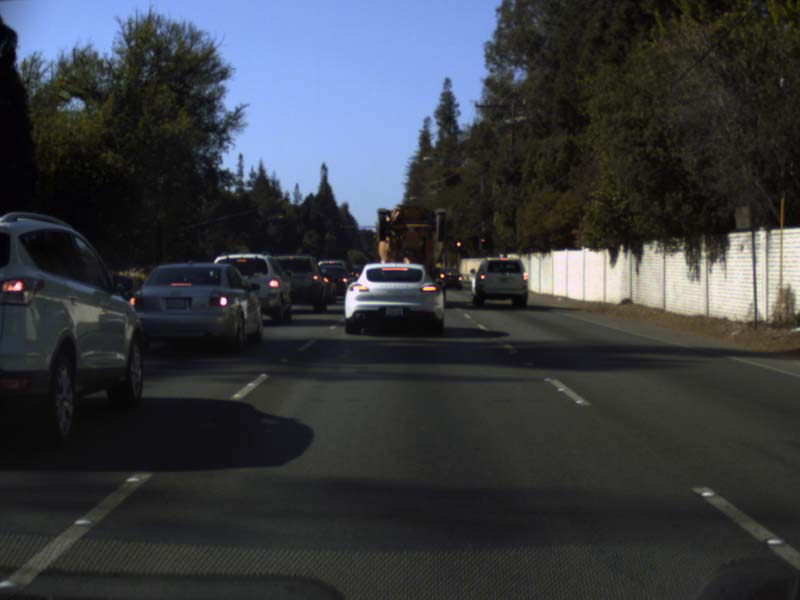Red: (454, 239, 462, 247), (480, 237, 485, 242)
Yellow: (339, 224, 342, 232)
